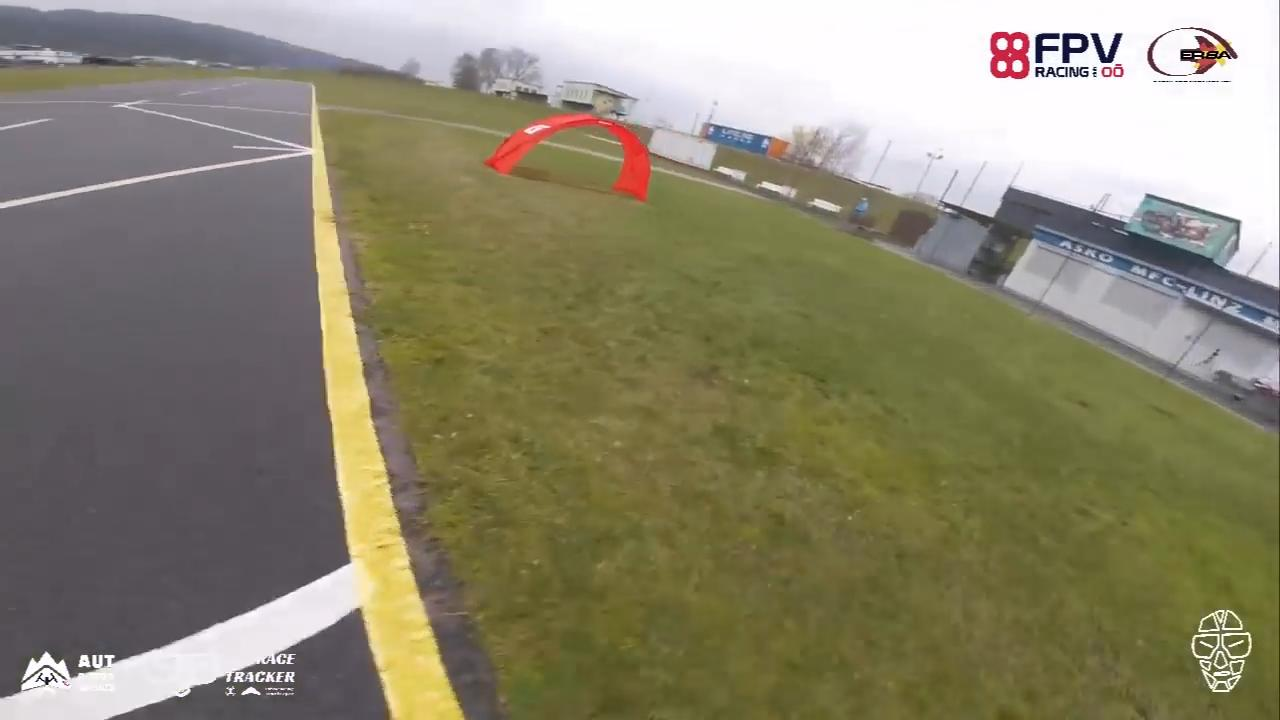gate: (485, 109, 654, 206)
